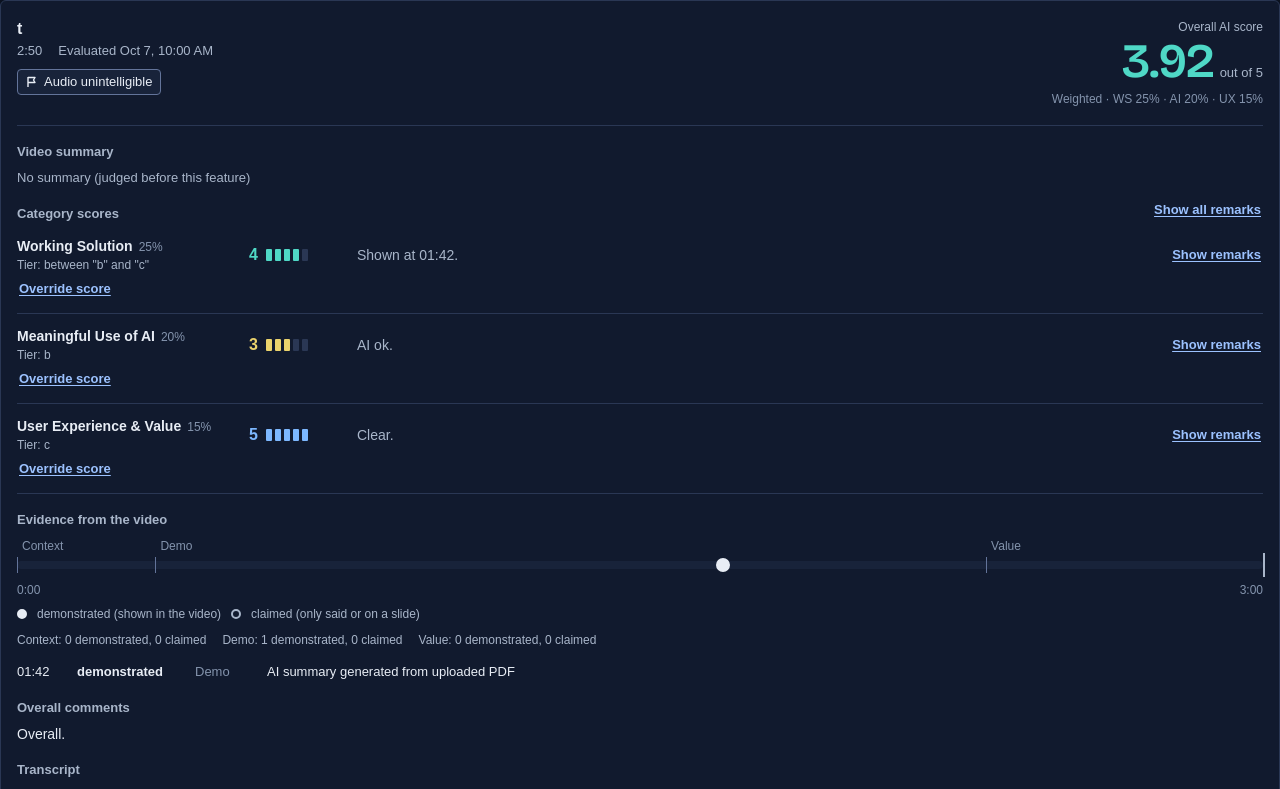
Test: Scorecard overrides (TBL-03) › should_validate_then_save_an_override
The image size is (1280, 789).
Click the button with aria-label "Override score for Working Solution" at coordinates (65, 289), box [17,277,113,301]
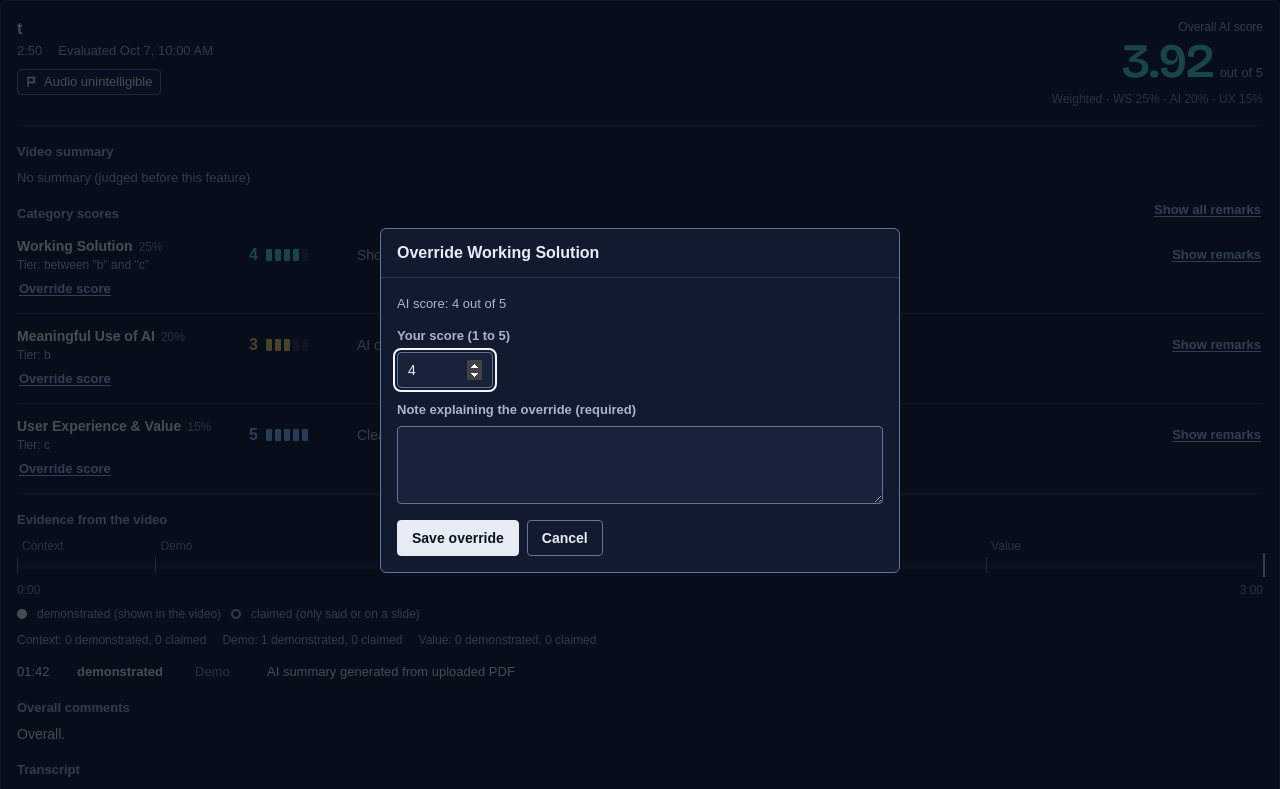
Replace the text in the number field labelled "Your score (1 to 5)" with "6" at coordinates (445, 370), box [397,352,493,388]
Click the button "Save override" at coordinates (458, 538), box [397,520,519,556]
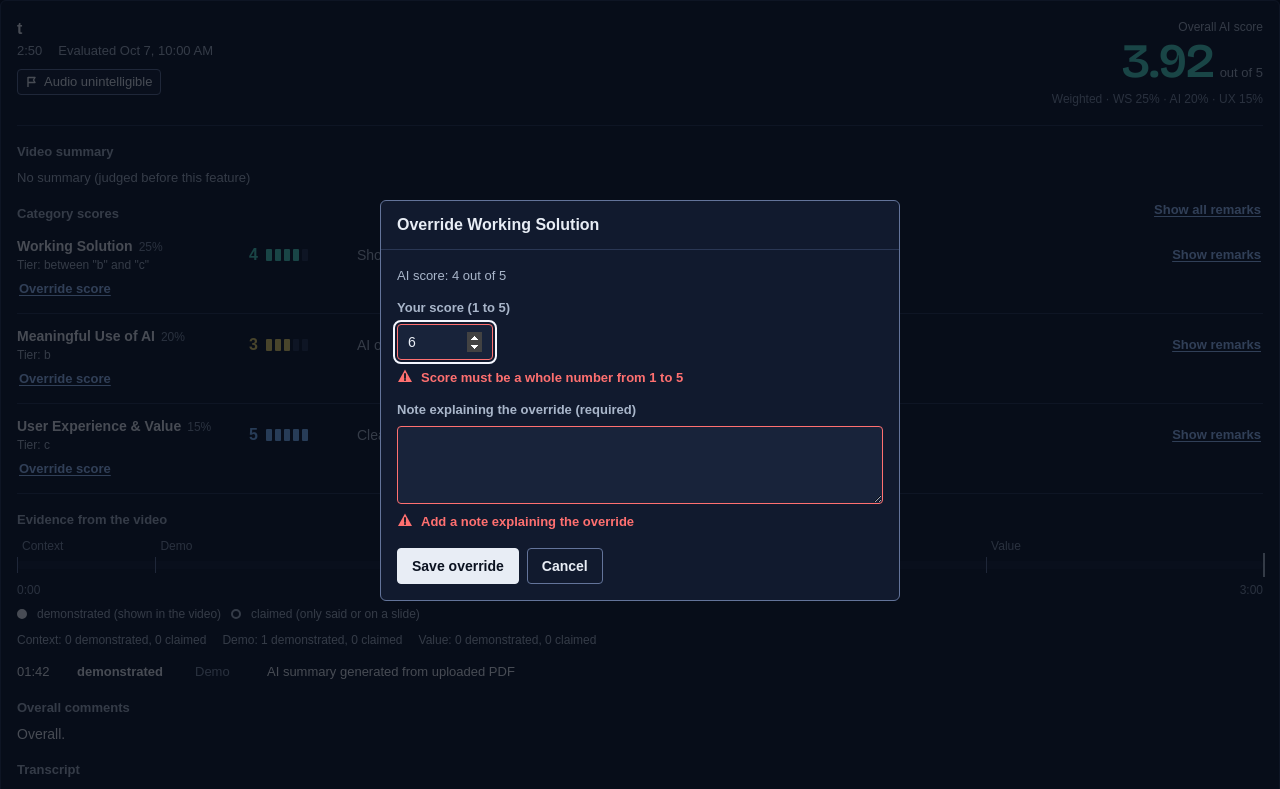
Expected: the text "Score must be a whole number from 1 to 5" is shown, [421,368,683,388]
Replace the text in the number field labelled "Your score (1 to 5)" with "2" at coordinates (445, 342), box [397,324,493,360]
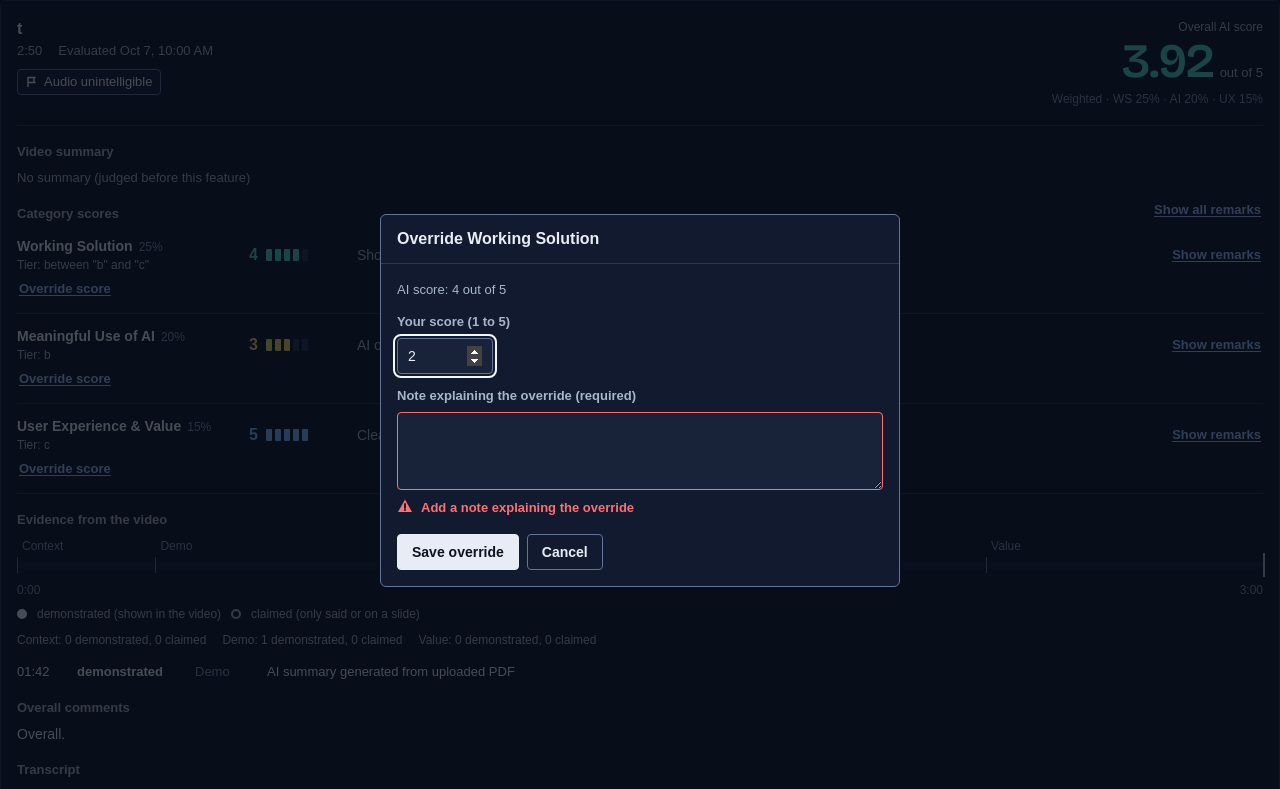
Click the button "Save override" at coordinates (458, 552), box [397,534,519,570]
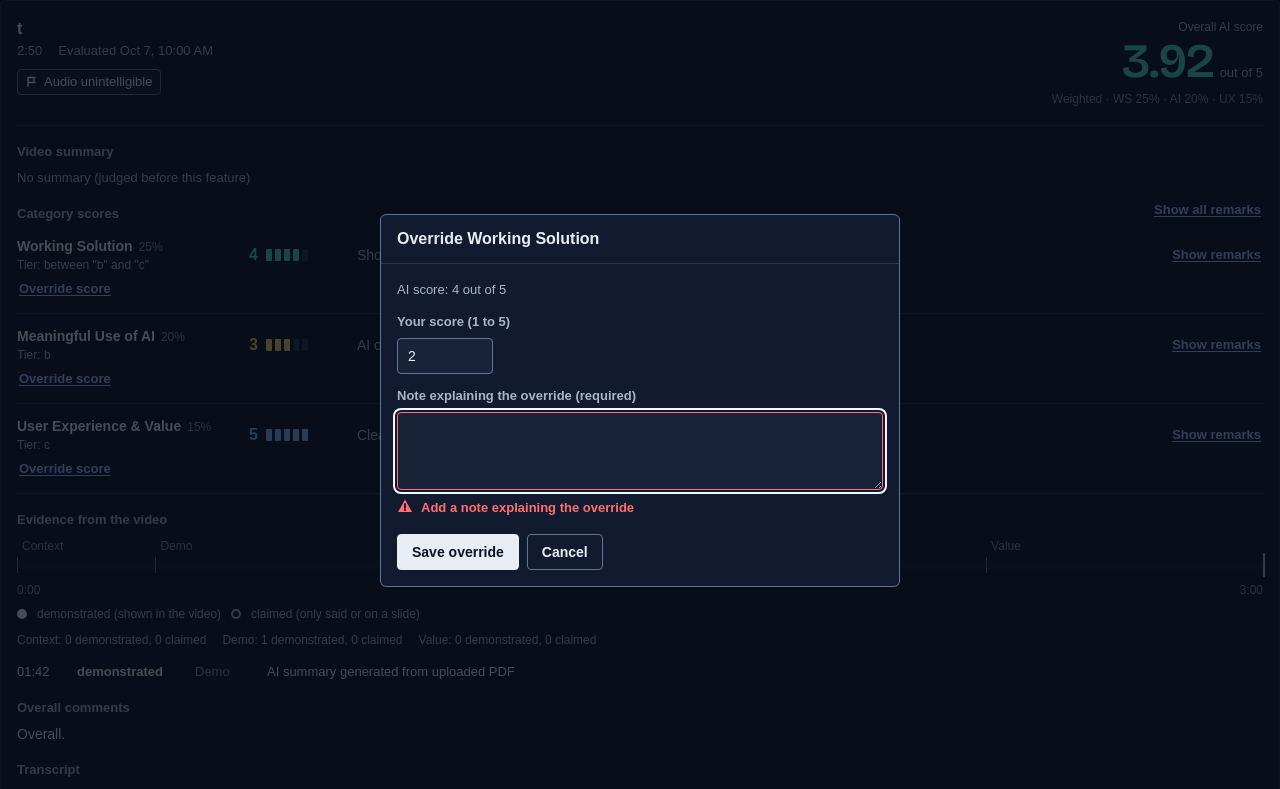
Expected: the text "Add a note explaining the override" is shown, [421,498,634,518]
Type "Demo used hardcoded output" into the text box labelled "Note explaining the override (required)" at coordinates (640, 450), box [397,412,883,490]
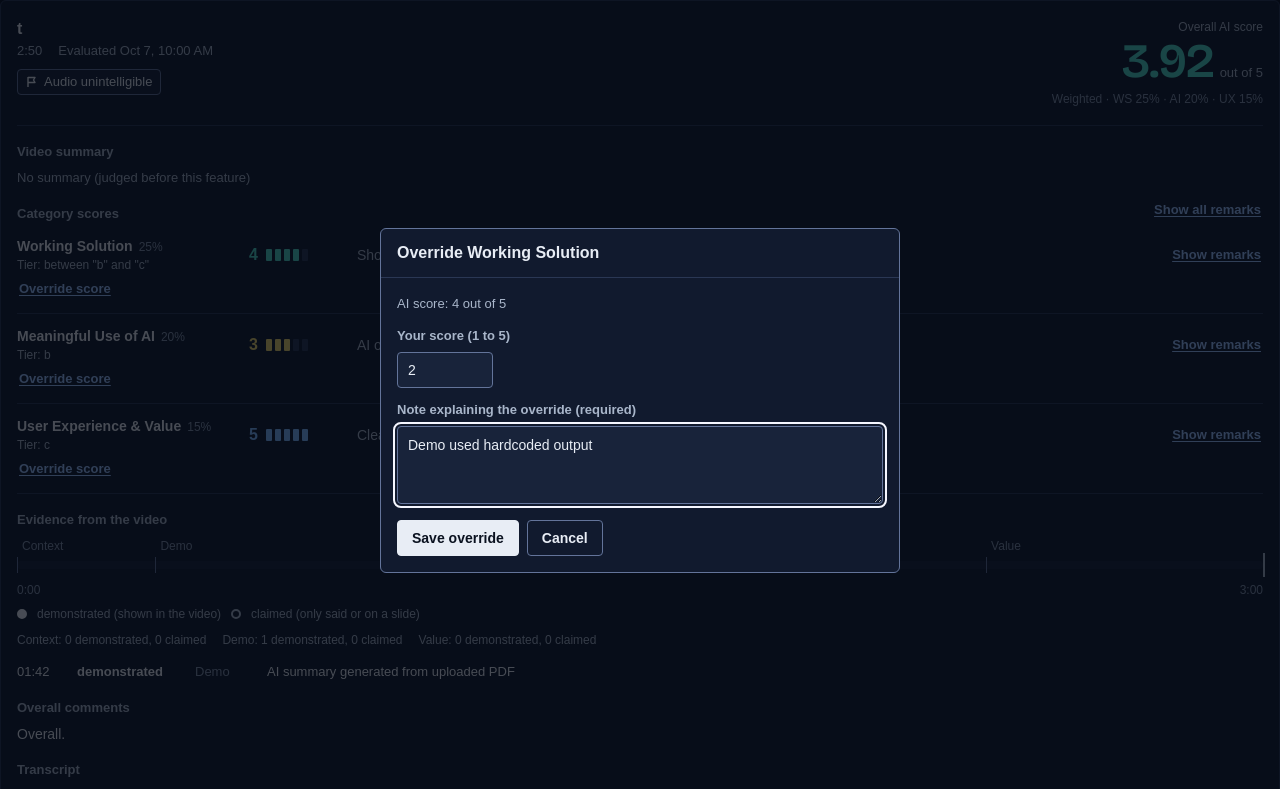
Click the button "Save override" at coordinates (458, 538), box [397,520,519,556]
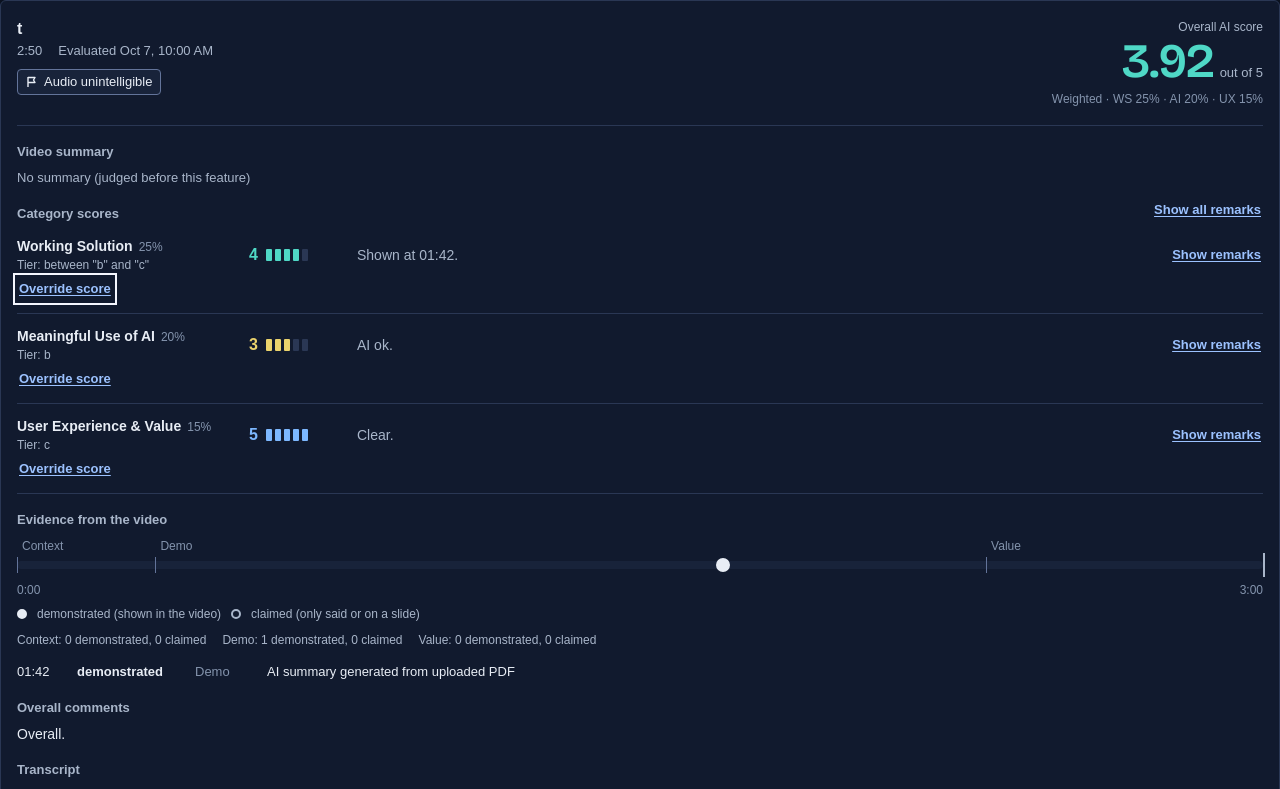
Expected: the heading "Override Working Solution" is gone
